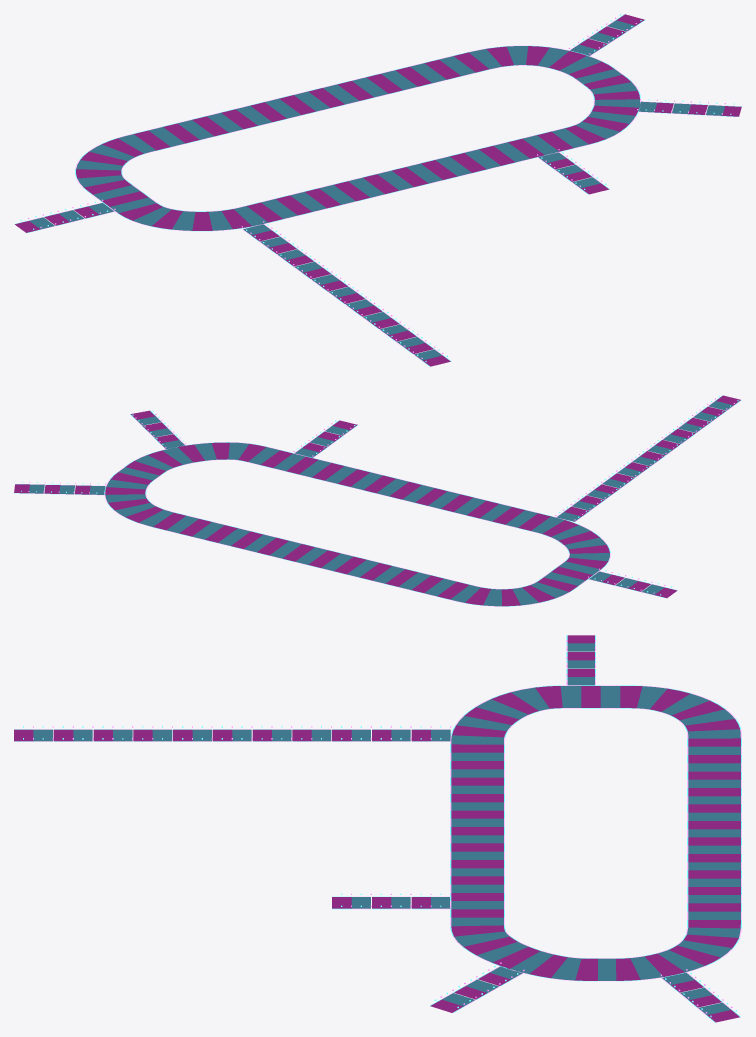
The model's file is path.glb.
3 renders of one model, top to bottom at view 1: azimuth 30°, elevation 25°; view 2: azimuth 150°, elevation 25°; view 3: azimuth 270°, elevation 25°, orthographic. The views are drawn at different scales.
Visible parts, largest first — view 1: path, Plane.024, Plane.022, Plane.025, Plane.021, Plane.023; view 2: path, Plane.024, Plane.025, Plane.021, Plane.023, Plane.022; view 3: path, Plane.024, Plane.023, Plane.022, Plane.021, Plane.025.
Part boxes in pixels (x1,y1,x2,y2): path: [75, 45, 640, 231]; Plane.024: [241, 221, 451, 366]; Plane.022: [637, 98, 741, 116]; Plane.025: [14, 199, 115, 233]; Plane.021: [568, 14, 645, 55]; Plane.023: [537, 149, 609, 194]; path: [104, 442, 610, 606]; Plane.024: [555, 395, 741, 521]; Plane.025: [588, 568, 677, 598]; Plane.021: [14, 481, 105, 495]; Plane.023: [293, 420, 357, 457]; Plane.022: [130, 410, 186, 449]; path: [450, 685, 741, 981]; Plane.024: [14, 726, 451, 741]; Plane.023: [332, 893, 451, 909]; Plane.022: [429, 962, 524, 1013]; Plane.021: [660, 969, 740, 1022]; Plane.025: [566, 635, 595, 685].
Bounding box in the file's own units: 99.24 × 0.3725 × 78.79.
